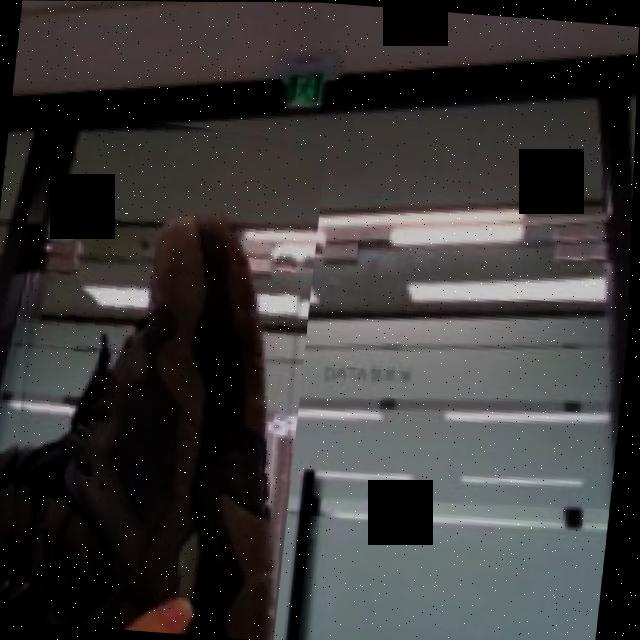shoe: (0, 106, 329, 640)
